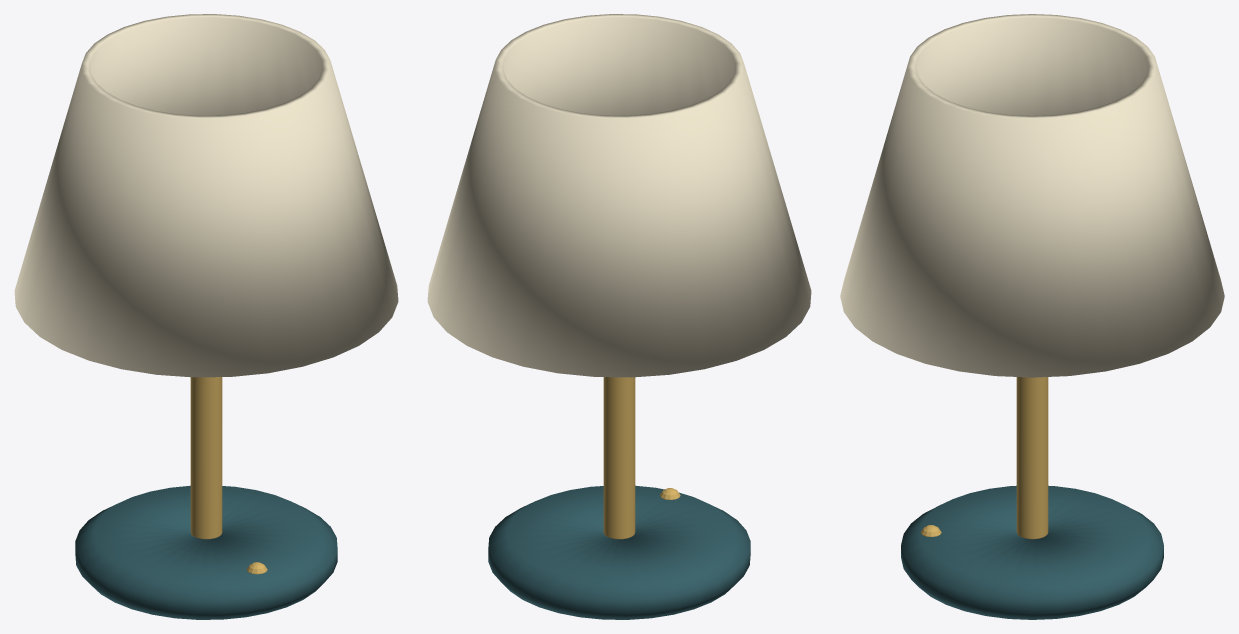
Rendered from HotelTogether-TableLamp.glb.
The picture shows the model from 3 angles, left to right: view 1: azimuth 30°, elevation 25°; view 2: azimuth 150°, elevation 25°; view 3: azimuth 270°, elevation 25°; orthographic projection.
Visible parts, largest first — view 1: Lamp_Shade, Lamp_Base, Lamp_Stem; view 2: Lamp_Shade, Lamp_Base, Lamp_Stem; view 3: Lamp_Shade, Lamp_Base, Lamp_Stem.
Part boxes in pixels (<box>): Lamp_Shade: <box>14,14,398,377</box>; Lamp_Base: <box>75,485,337,619</box>; Lamp_Stem: <box>190,377,222,539</box>; Lamp_Shade: <box>427,14,811,377</box>; Lamp_Base: <box>488,485,750,619</box>; Lamp_Stem: <box>603,377,635,539</box>; Lamp_Shade: <box>840,14,1224,377</box>; Lamp_Base: <box>901,485,1163,619</box>; Lamp_Stem: <box>1016,377,1048,539</box>.
Size of the model in its own units: 0.41 by 0.59 by 0.41.
